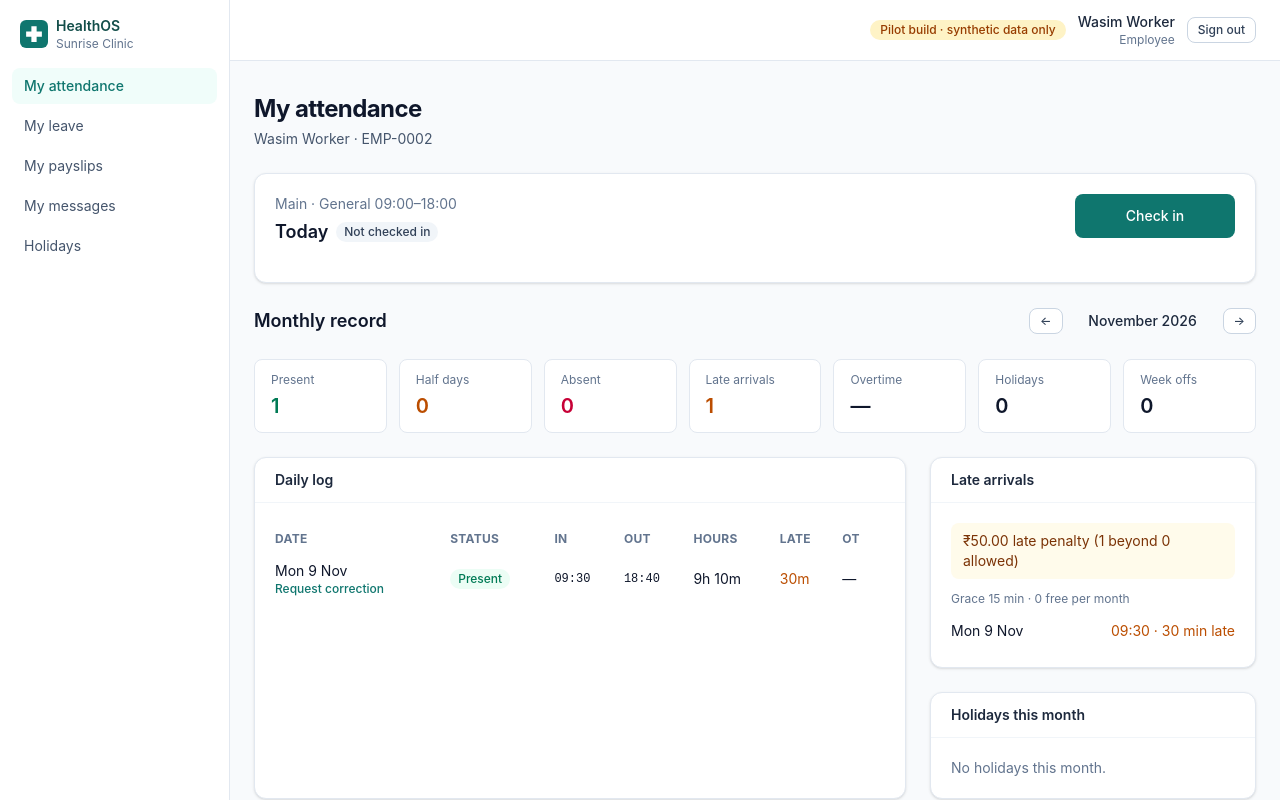
mark attendance › tells the employee how to fix a blocked location permission
Click the button "Check in" at [1155, 216], box [1075, 194, 1235, 238]
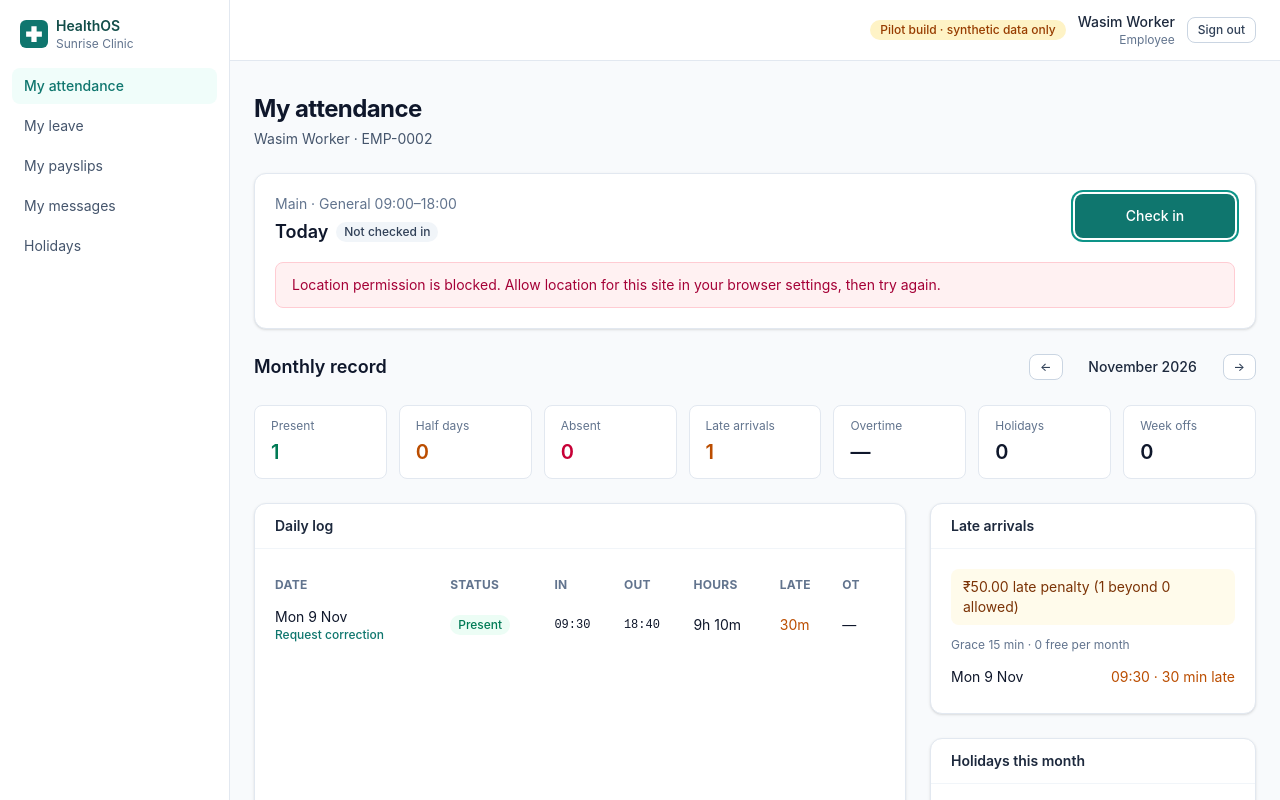
Check: the text "Location permission is blocked" is shown, box [292, 276, 941, 293]
